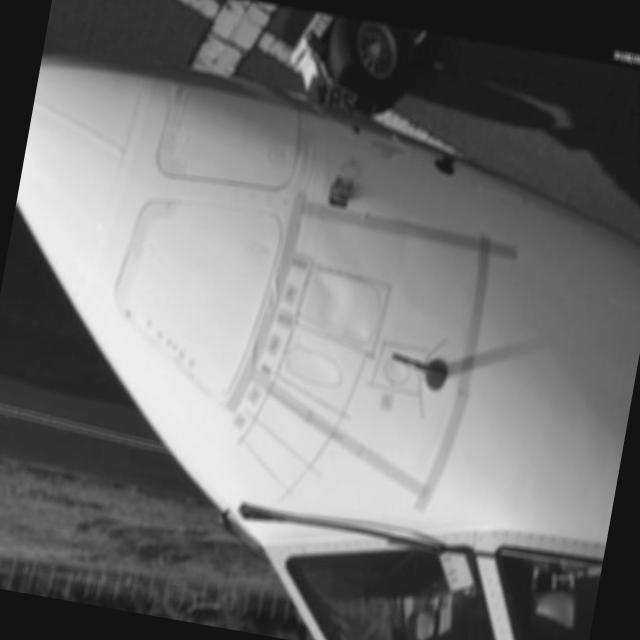dent: (304, 272, 374, 342)
